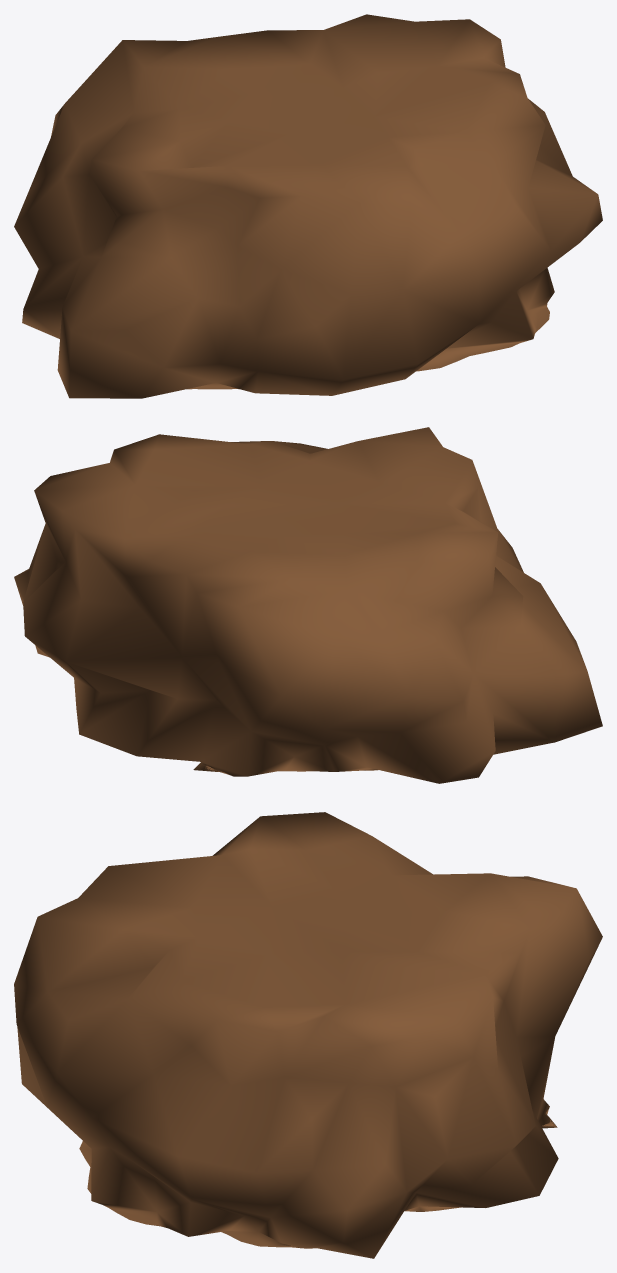
Rendered from mesa-lod1.glb.
3 renders of one model, top to bottom at view 1: azimuth 30°, elevation 25°; view 2: azimuth 150°, elevation 25°; view 3: azimuth 270°, elevation 25°, orthographic. The views are drawn at different scales.
Visible parts, largest first — view 1: mesa.001; view 2: mesa.001; view 3: mesa.001.
Boxes of the visible parts, bbox=[...] form: mesa.001: bbox=[14, 14, 602, 398]; mesa.001: bbox=[14, 427, 602, 783]; mesa.001: bbox=[14, 812, 602, 1258].
Size of the model in its own units: 49.34 by 16.71 by 41.16.
